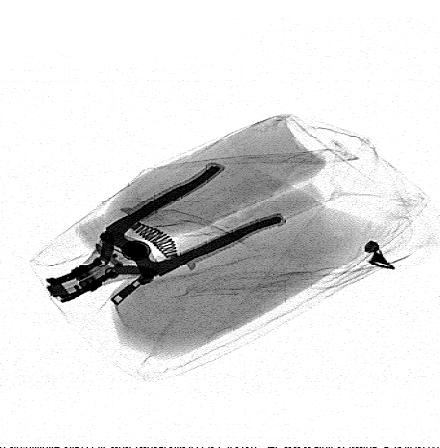Pliers: (42, 161, 286, 305)
